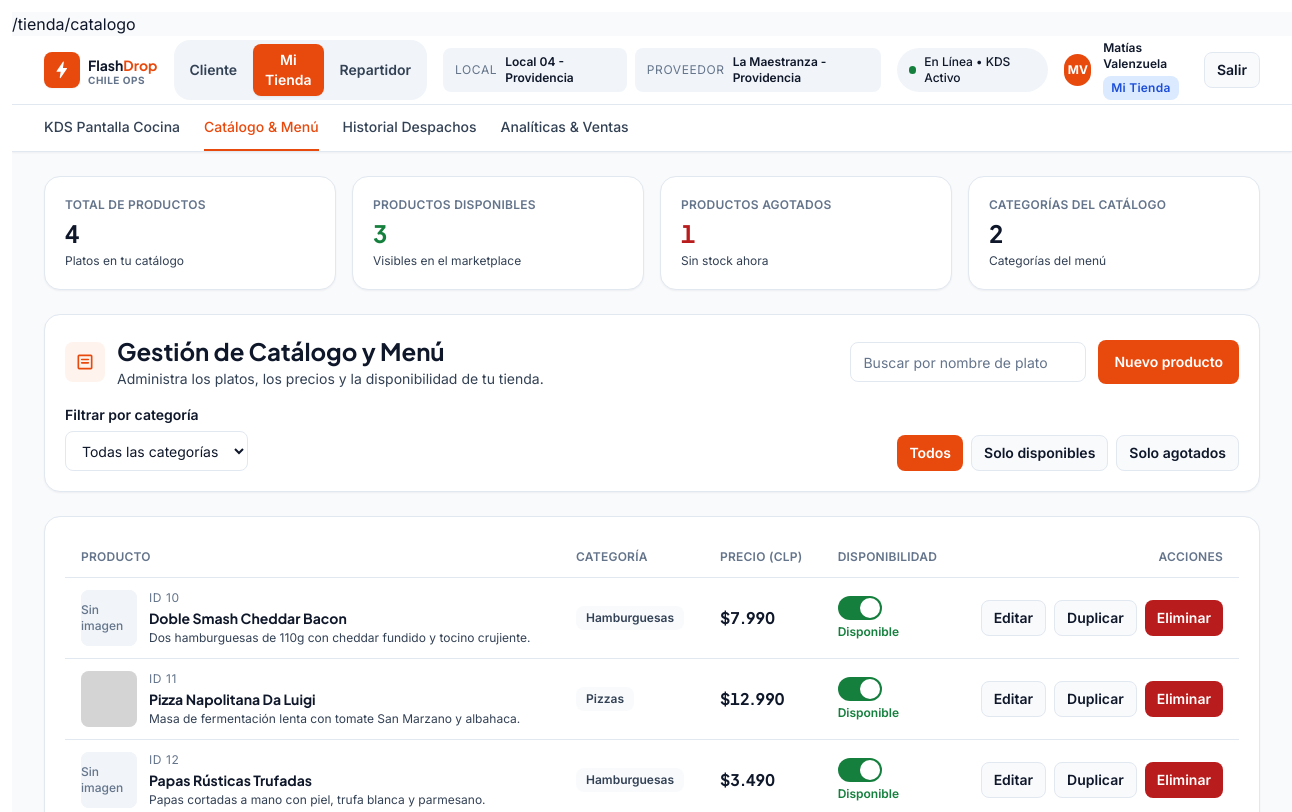
Scenario: store catalog management › restores the real availability and shows the literal error when a toggle is rejected
This screenshot has width=1292, height=812.
Click the checkbox named "Disponibilidad de Doble Smash Cheddar Bacon".
click(860, 608)  # box [838,596,882,620]
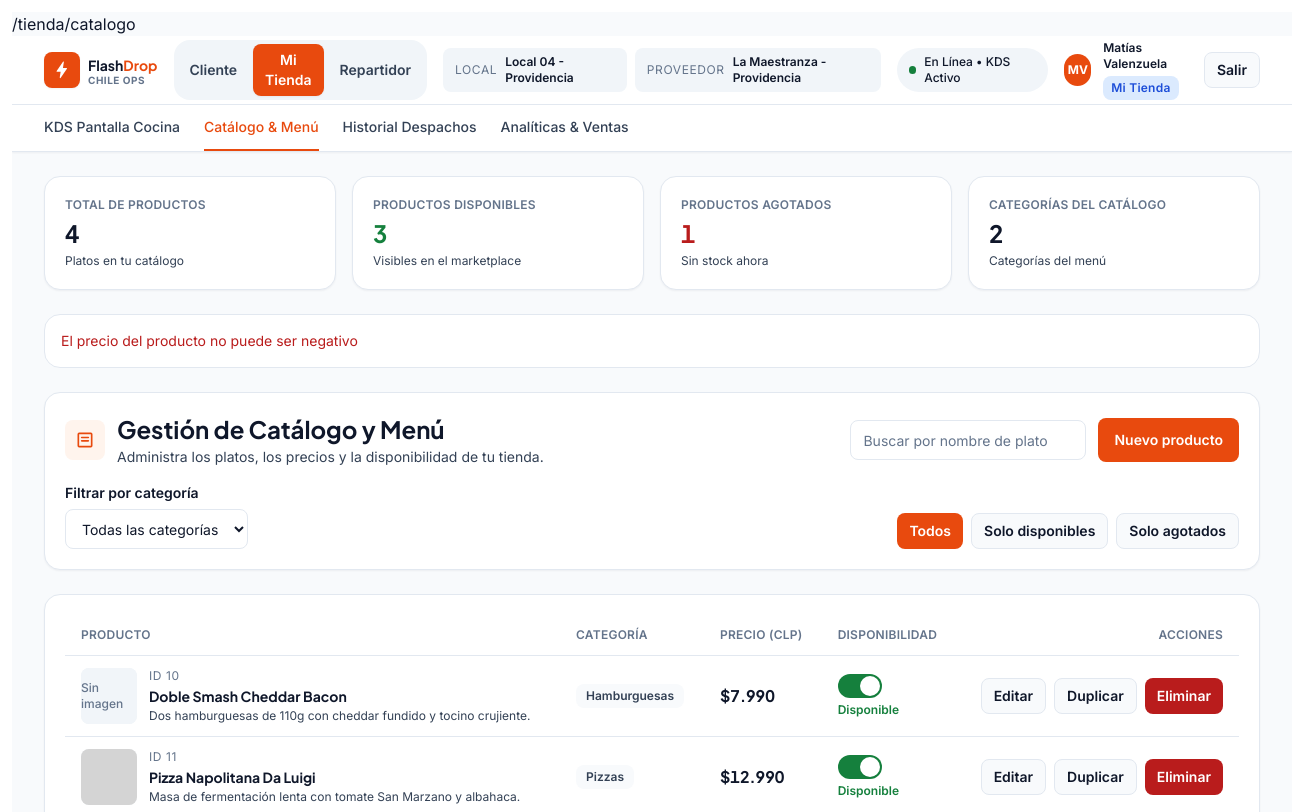
Expected: the checkbox named "Disponibilidad de Doble Smash Cheddar Bacon" is checked, [838,674,882,698]
Expected: the message reads "El precio del producto no puede ser negativo", [61,332,358,349]
